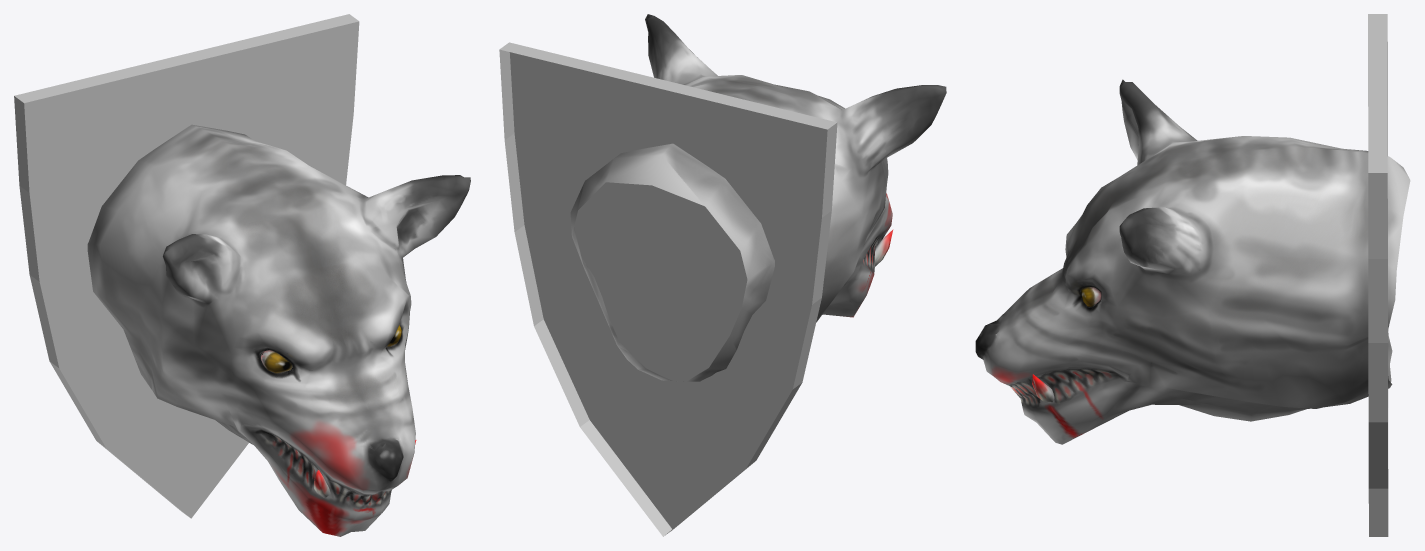
File: Lobo.fbx
3 renders of one model, left to right at view 1: azimuth 30°, elevation 25°; view 2: azimuth 150°, elevation 25°; view 3: azimuth 270°, elevation 25°, orthographic. The views are drawn at different scales.
Parts seen in each view (by area): view 1: Lobo Retopologia, Cube; view 2: Cube, Lobo Retopologia; view 3: Lobo Retopologia, Cube.
Boxes of the visible parts, left/top/right/bottom form: Lobo Retopologia: left=87, top=124, right=470, bottom=536; Cube: left=14, top=14, right=359, bottom=518; Cube: left=499, top=42, right=837, bottom=536; Lobo Retopologia: left=570, top=14, right=946, bottom=381; Lobo Retopologia: left=975, top=79, right=1410, bottom=444; Cube: left=1368, top=14, right=1388, bottom=536.
Bounding box in the file's own units: 224 × 291 × 259.
